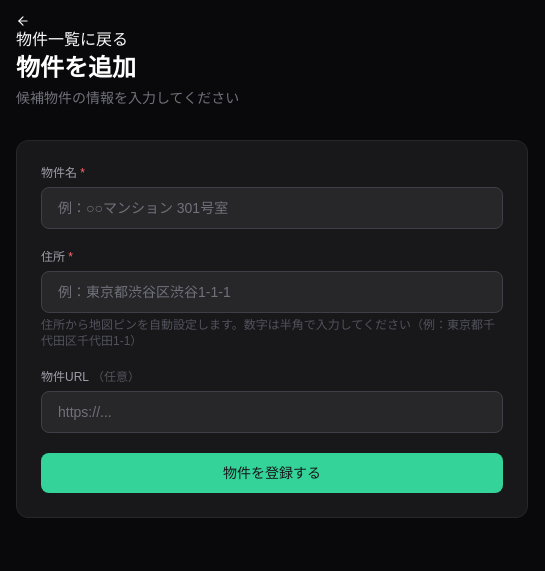
Test: NewPropertyPage › Supabaseのinsertが失敗したときエラーメッセージが表示される
Type "テスト物件" into the field with placeholder "例：○○マンション 301号室".
click(272, 208); type("テスト物件")  # box [41,187,503,229]
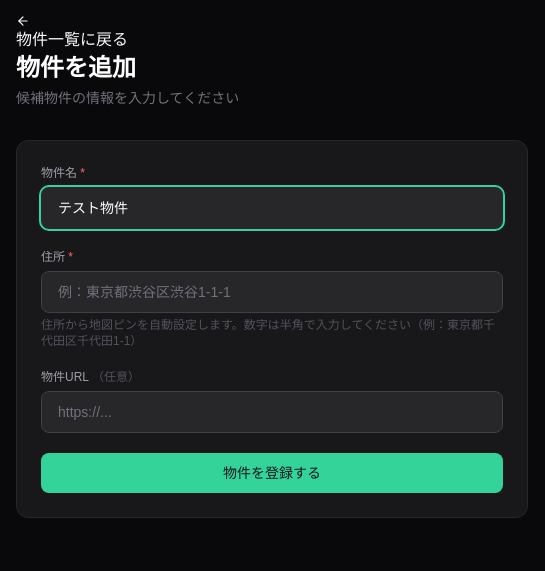
Type "東京都千代田区千代田1-1" into the field with placeholder "例：東京都渋谷区渋谷1-1-1".
click(272, 292); type("東京都千代田区千代田1-1")  # box [41,271,503,313]
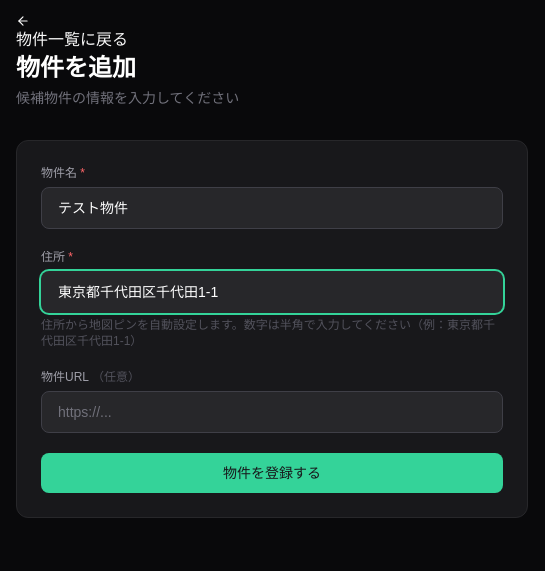
Click the button "物件を登録する".
click(272, 473)  # box [41,453,503,493]
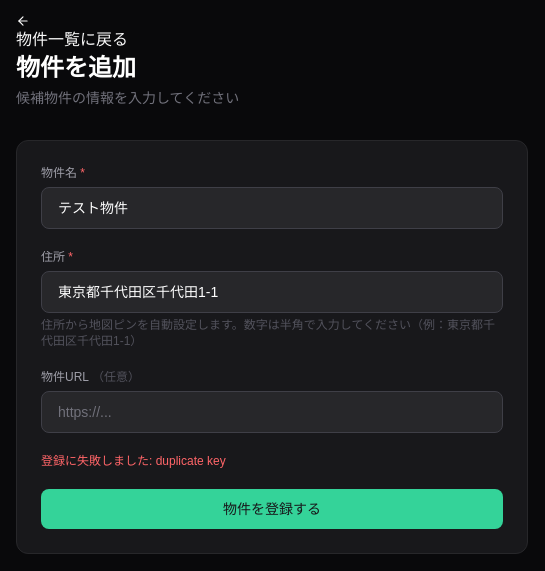
Result: the text "登録に失敗しました: duplicate key" is shown at [41,454,226,468]
